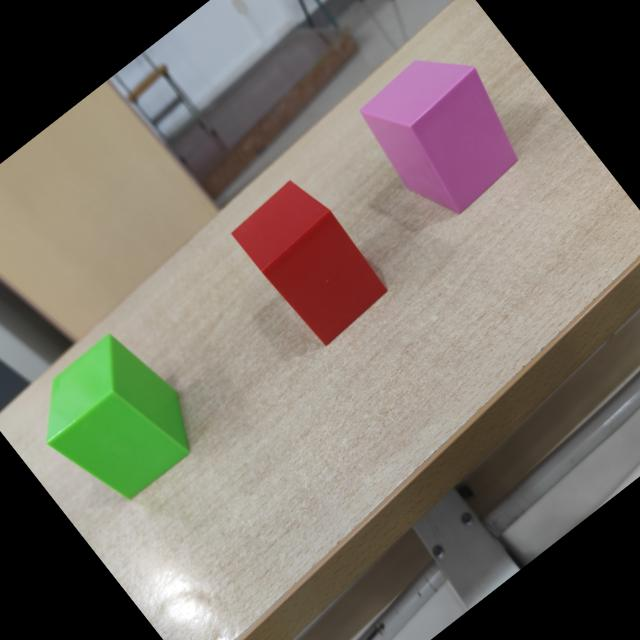green: (45, 334, 191, 500)
pink: (362, 60, 520, 215)
red: (234, 182, 389, 345)
